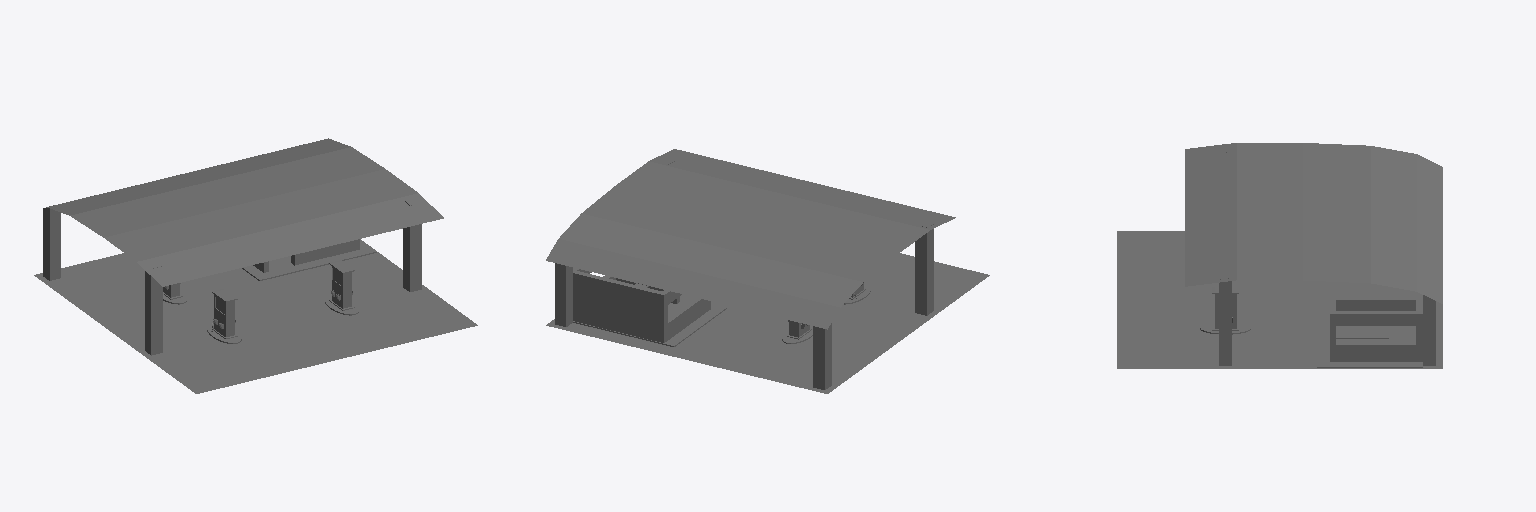
The model's file is SceneModel1.obj.
3 views of the same model, side by side, from view 1: azimuth 30°, elevation 25°; view 2: azimuth 150°, elevation 25°; view 3: azimuth 270°, elevation 25° (orthographic).
Parts seen in each view (by area): view 1: pPlane2, pPlane1, pCube3, pCube4, pCube5, pCube2, polySurface12, polySurface5, polySurface1; view 2: pPlane2, pPlane1, polySurface1, pCube3, pCube2, pCube1, pCube5; view 3: pPlane2, pPlane1, polySurface1, pCube5, pCube4, pCube1.
Boxes of the visible parts, <box> form: pPlane2: <box>47,138,443,286</box>; pPlane1: <box>34,239,477,393</box>; pCube3: <box>145,260,162,355</box>; pCube4: <box>403,196,421,291</box>; pCube5: <box>242,240,376,280</box>; pCube2: <box>43,207,60,280</box>; polySurface12: <box>211,289,237,338</box>; polySurface5: <box>329,260,354,310</box>; polySurface1: <box>253,239,359,272</box>; pPlane2: <box>546,149,955,329</box>; pPlane1: <box>546,253,989,393</box>; polySurface1: <box>573,268,710,342</box>; pCube3: <box>915,221,933,315</box>; pCube2: <box>813,323,831,389</box>; pCube1: <box>555,263,572,326</box>; pCube5: <box>573,296,726,346</box>; pPlane2: <box>1185,143,1442,303</box>; pPlane1: <box>1117,231,1442,368</box>; polySurface1: <box>1330,282,1422,361</box>; pCube5: <box>1317,310,1422,367</box>; pCube4: <box>1219,272,1231,365</box>; pCube1: <box>1423,295,1435,365</box>.
Size of the model in its own units: 24 by 7.22 by 24.